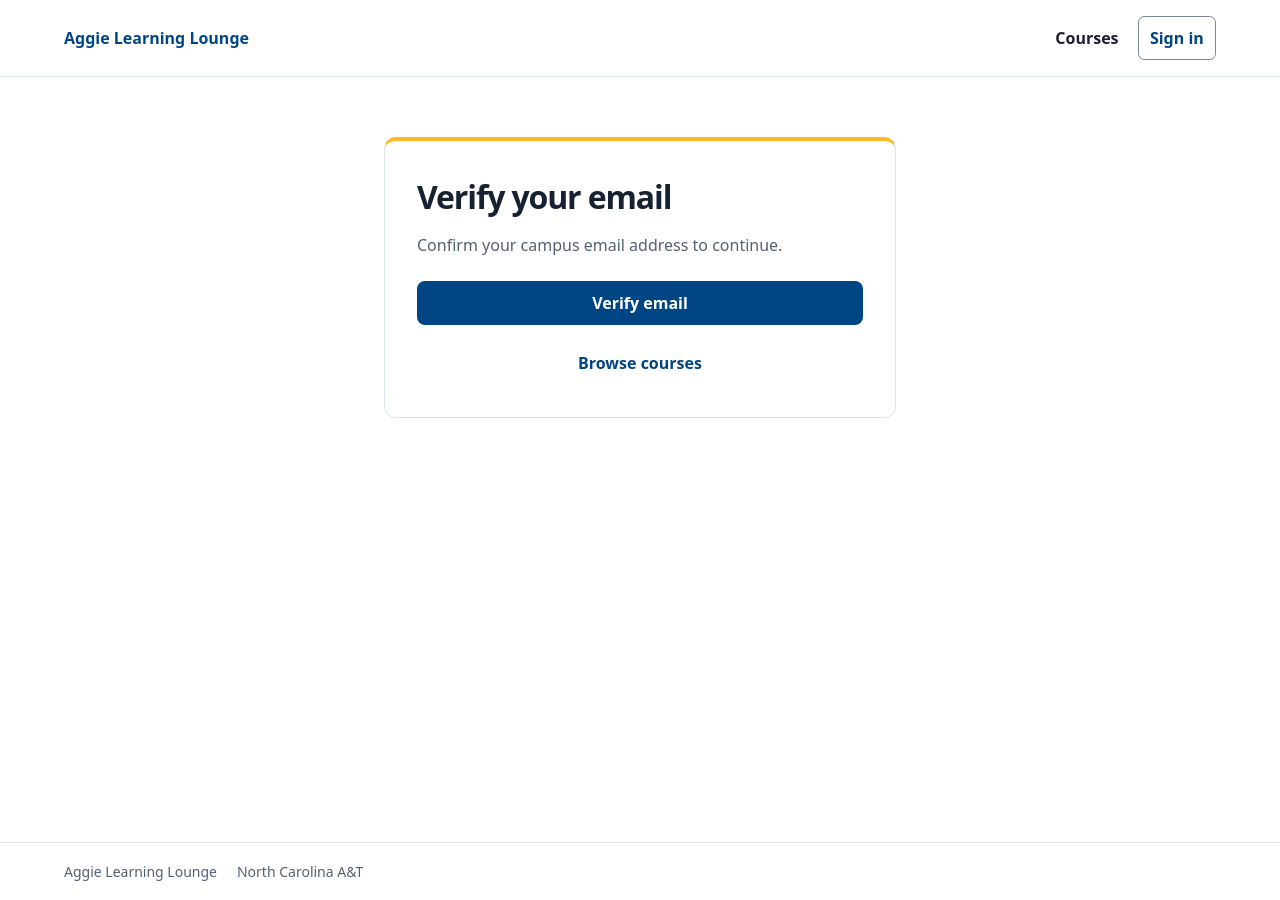
it: Phase 2 — Account and session flows › offers sign-in and resend when a verification link expires
The image size is (1280, 900).
Click the button "Verify email".
click(640, 303)  # box left=417, top=281, right=863, bottom=325
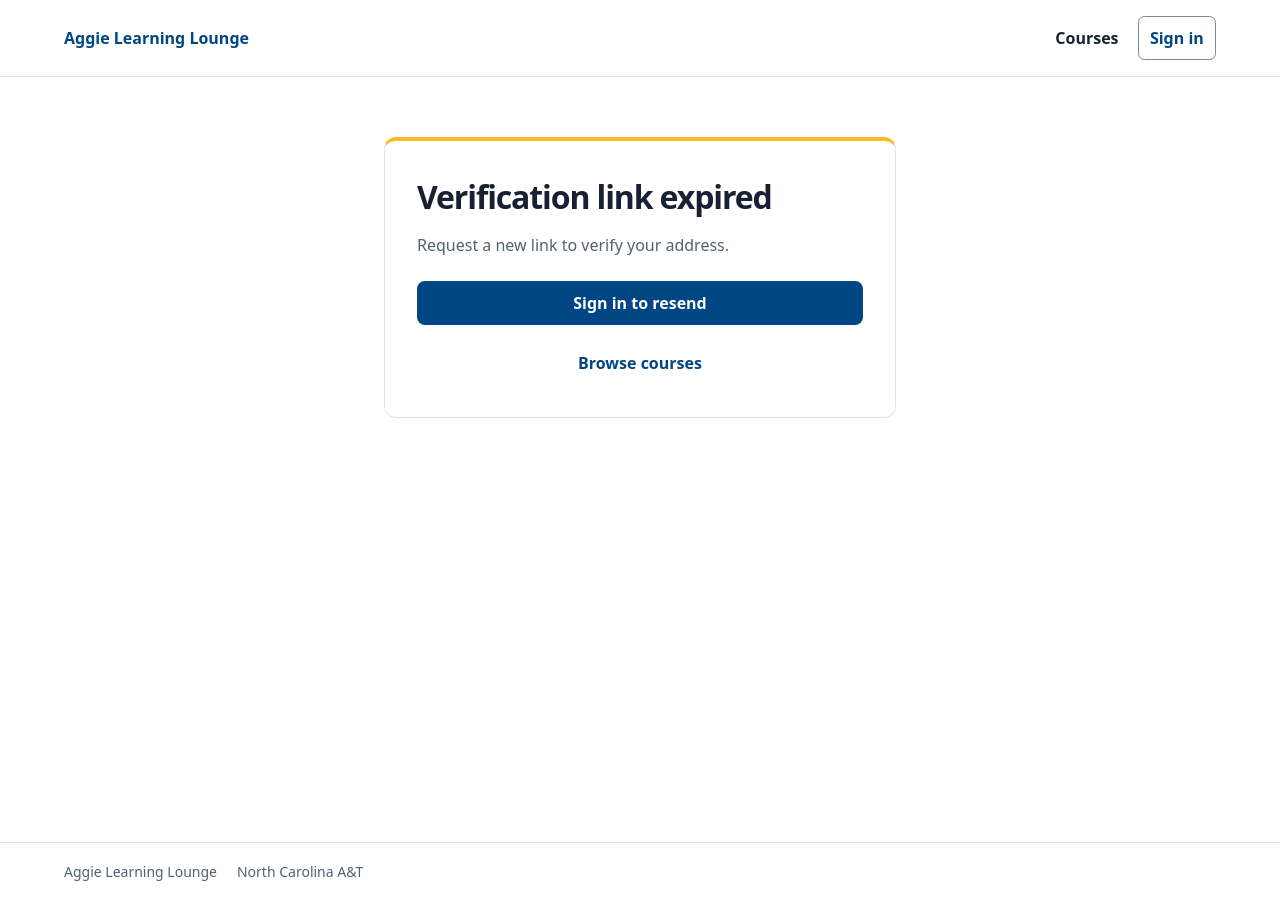
Expected: the heading "Verification link expired" is shown, left=417, top=175, right=772, bottom=218
